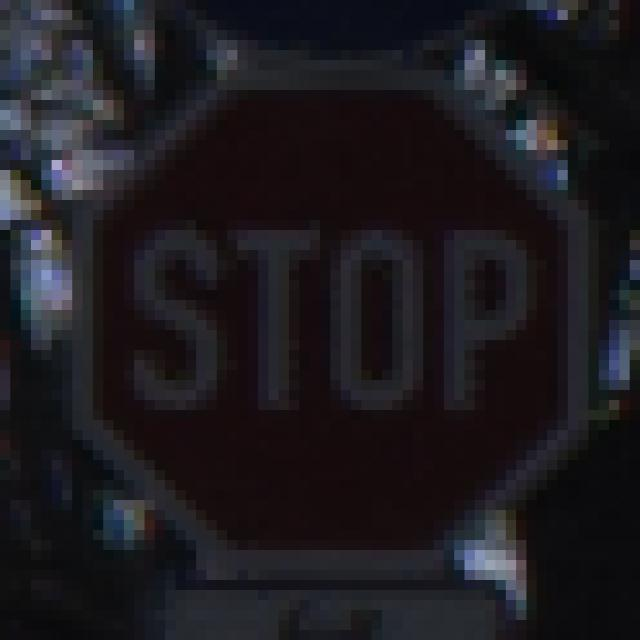STOP: (63, 51, 589, 591)
